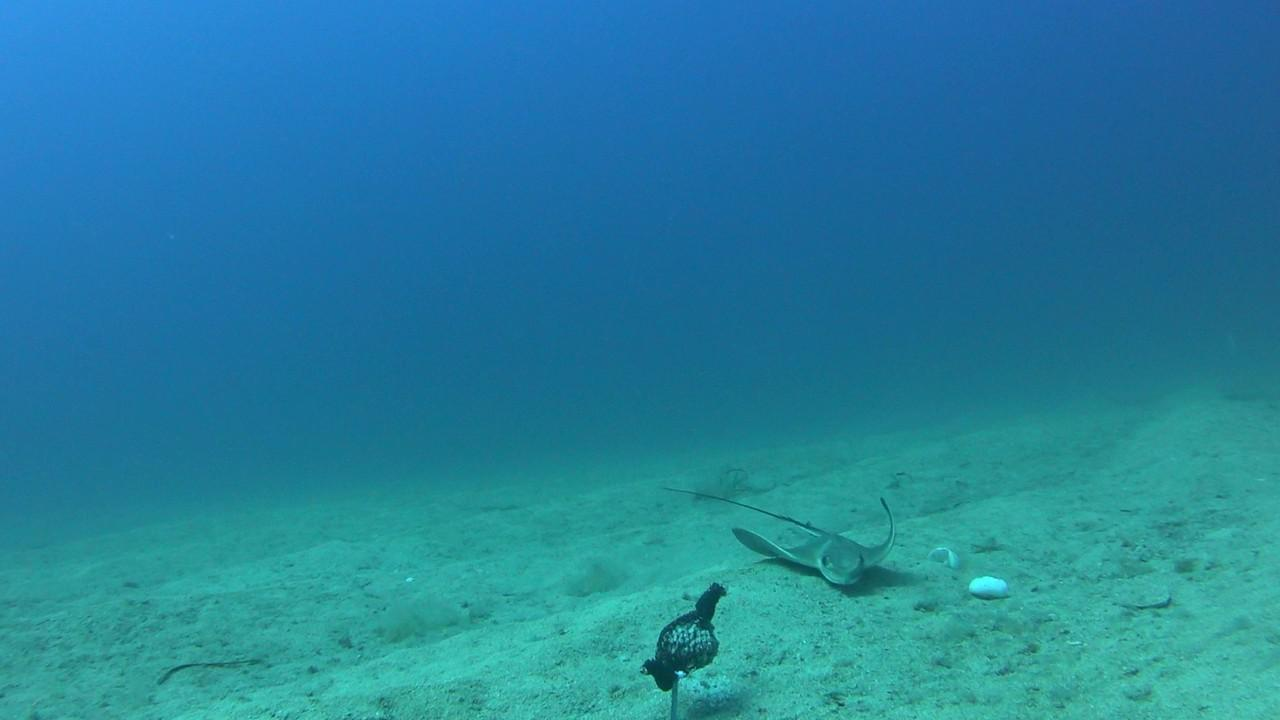myliobatis: (647, 487, 901, 588)
